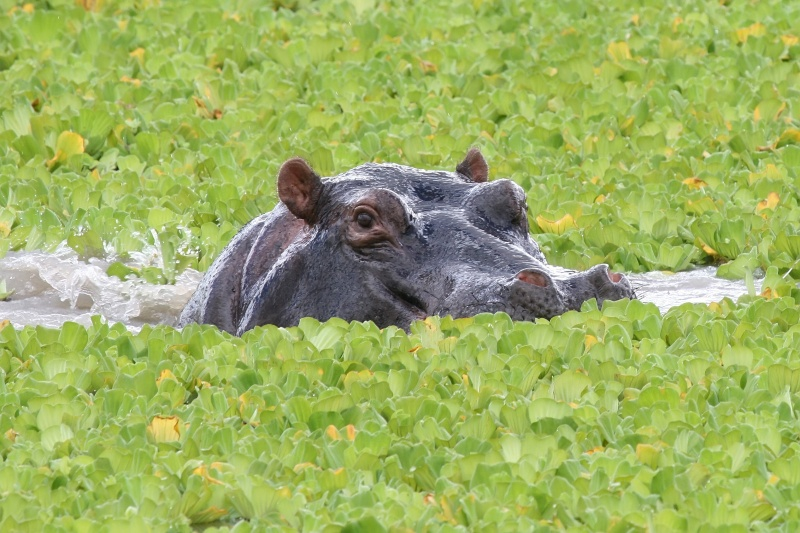hipopotamo: (151, 133, 652, 339)
